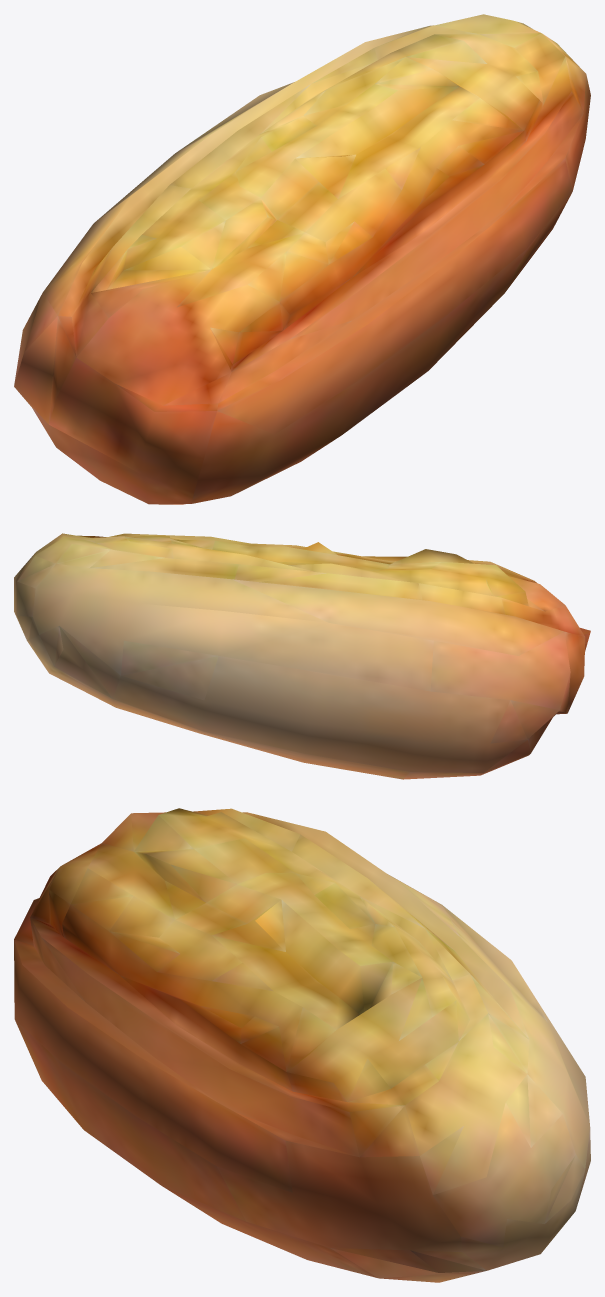
File: sweetcorn.glb
The picture shows the model from 3 angles, top to bottom: view 1: azimuth 30°, elevation 25°; view 2: azimuth 150°, elevation 25°; view 3: azimuth 270°, elevation 25°; orthographic projection. The views are drawn at different scales.
Parts seen in each view (by area): view 1: Sweetcorn; view 2: Sweetcorn; view 3: Sweetcorn.
Part boxes in pixels (bbox=[...]): Sweetcorn: bbox=[14, 14, 590, 504]; Sweetcorn: bbox=[14, 533, 590, 779]; Sweetcorn: bbox=[14, 808, 590, 1282].
Size of the model in its own units: 2.04 by 0.887 by 1.29.
Materials: 1 (1 with a texture image).
